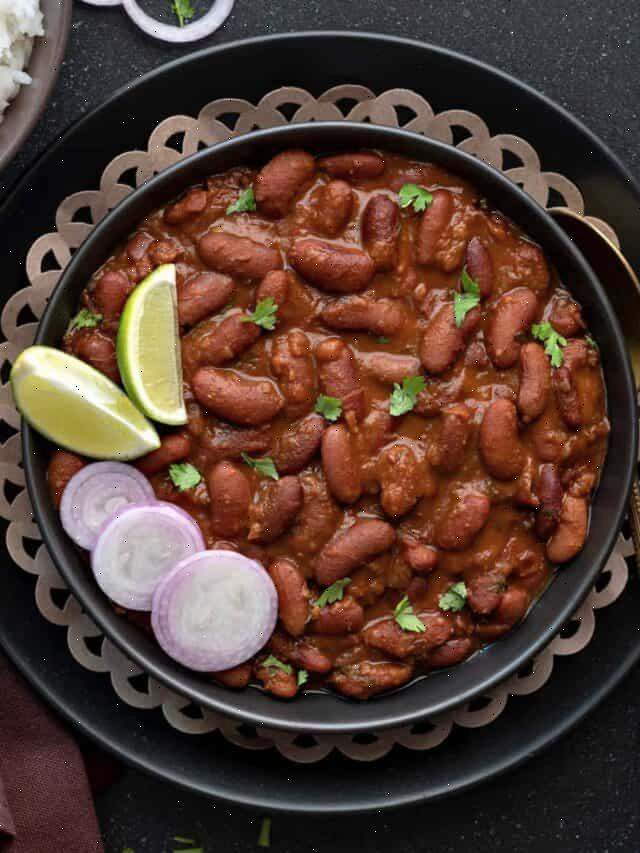rajma: (88, 156, 612, 662)
